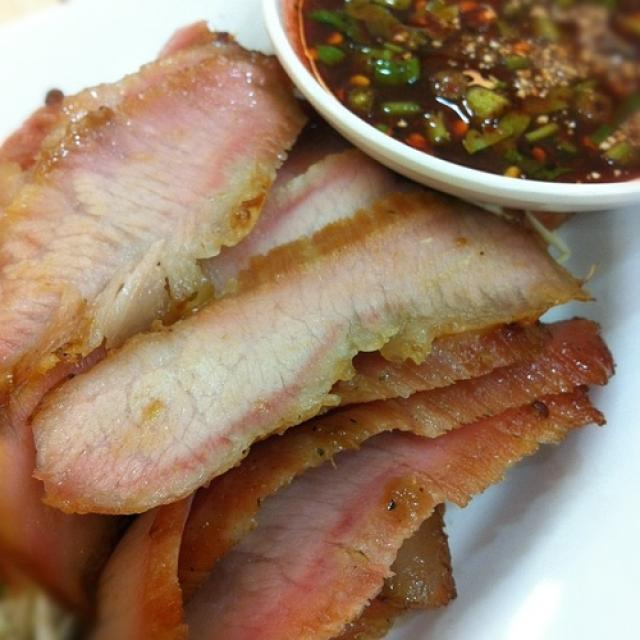猪肉菜式: (12, 32, 608, 621)
